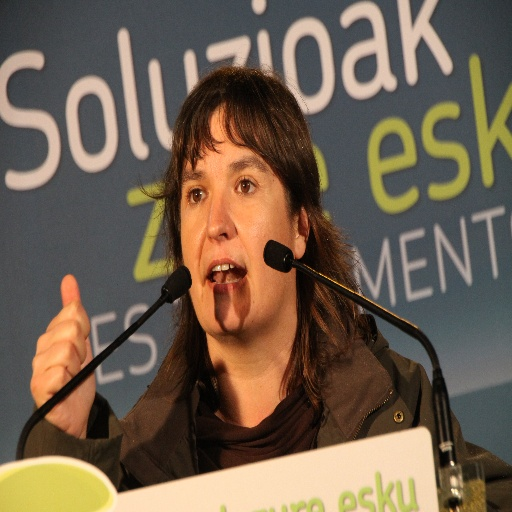hand: (29, 272, 96, 435)
